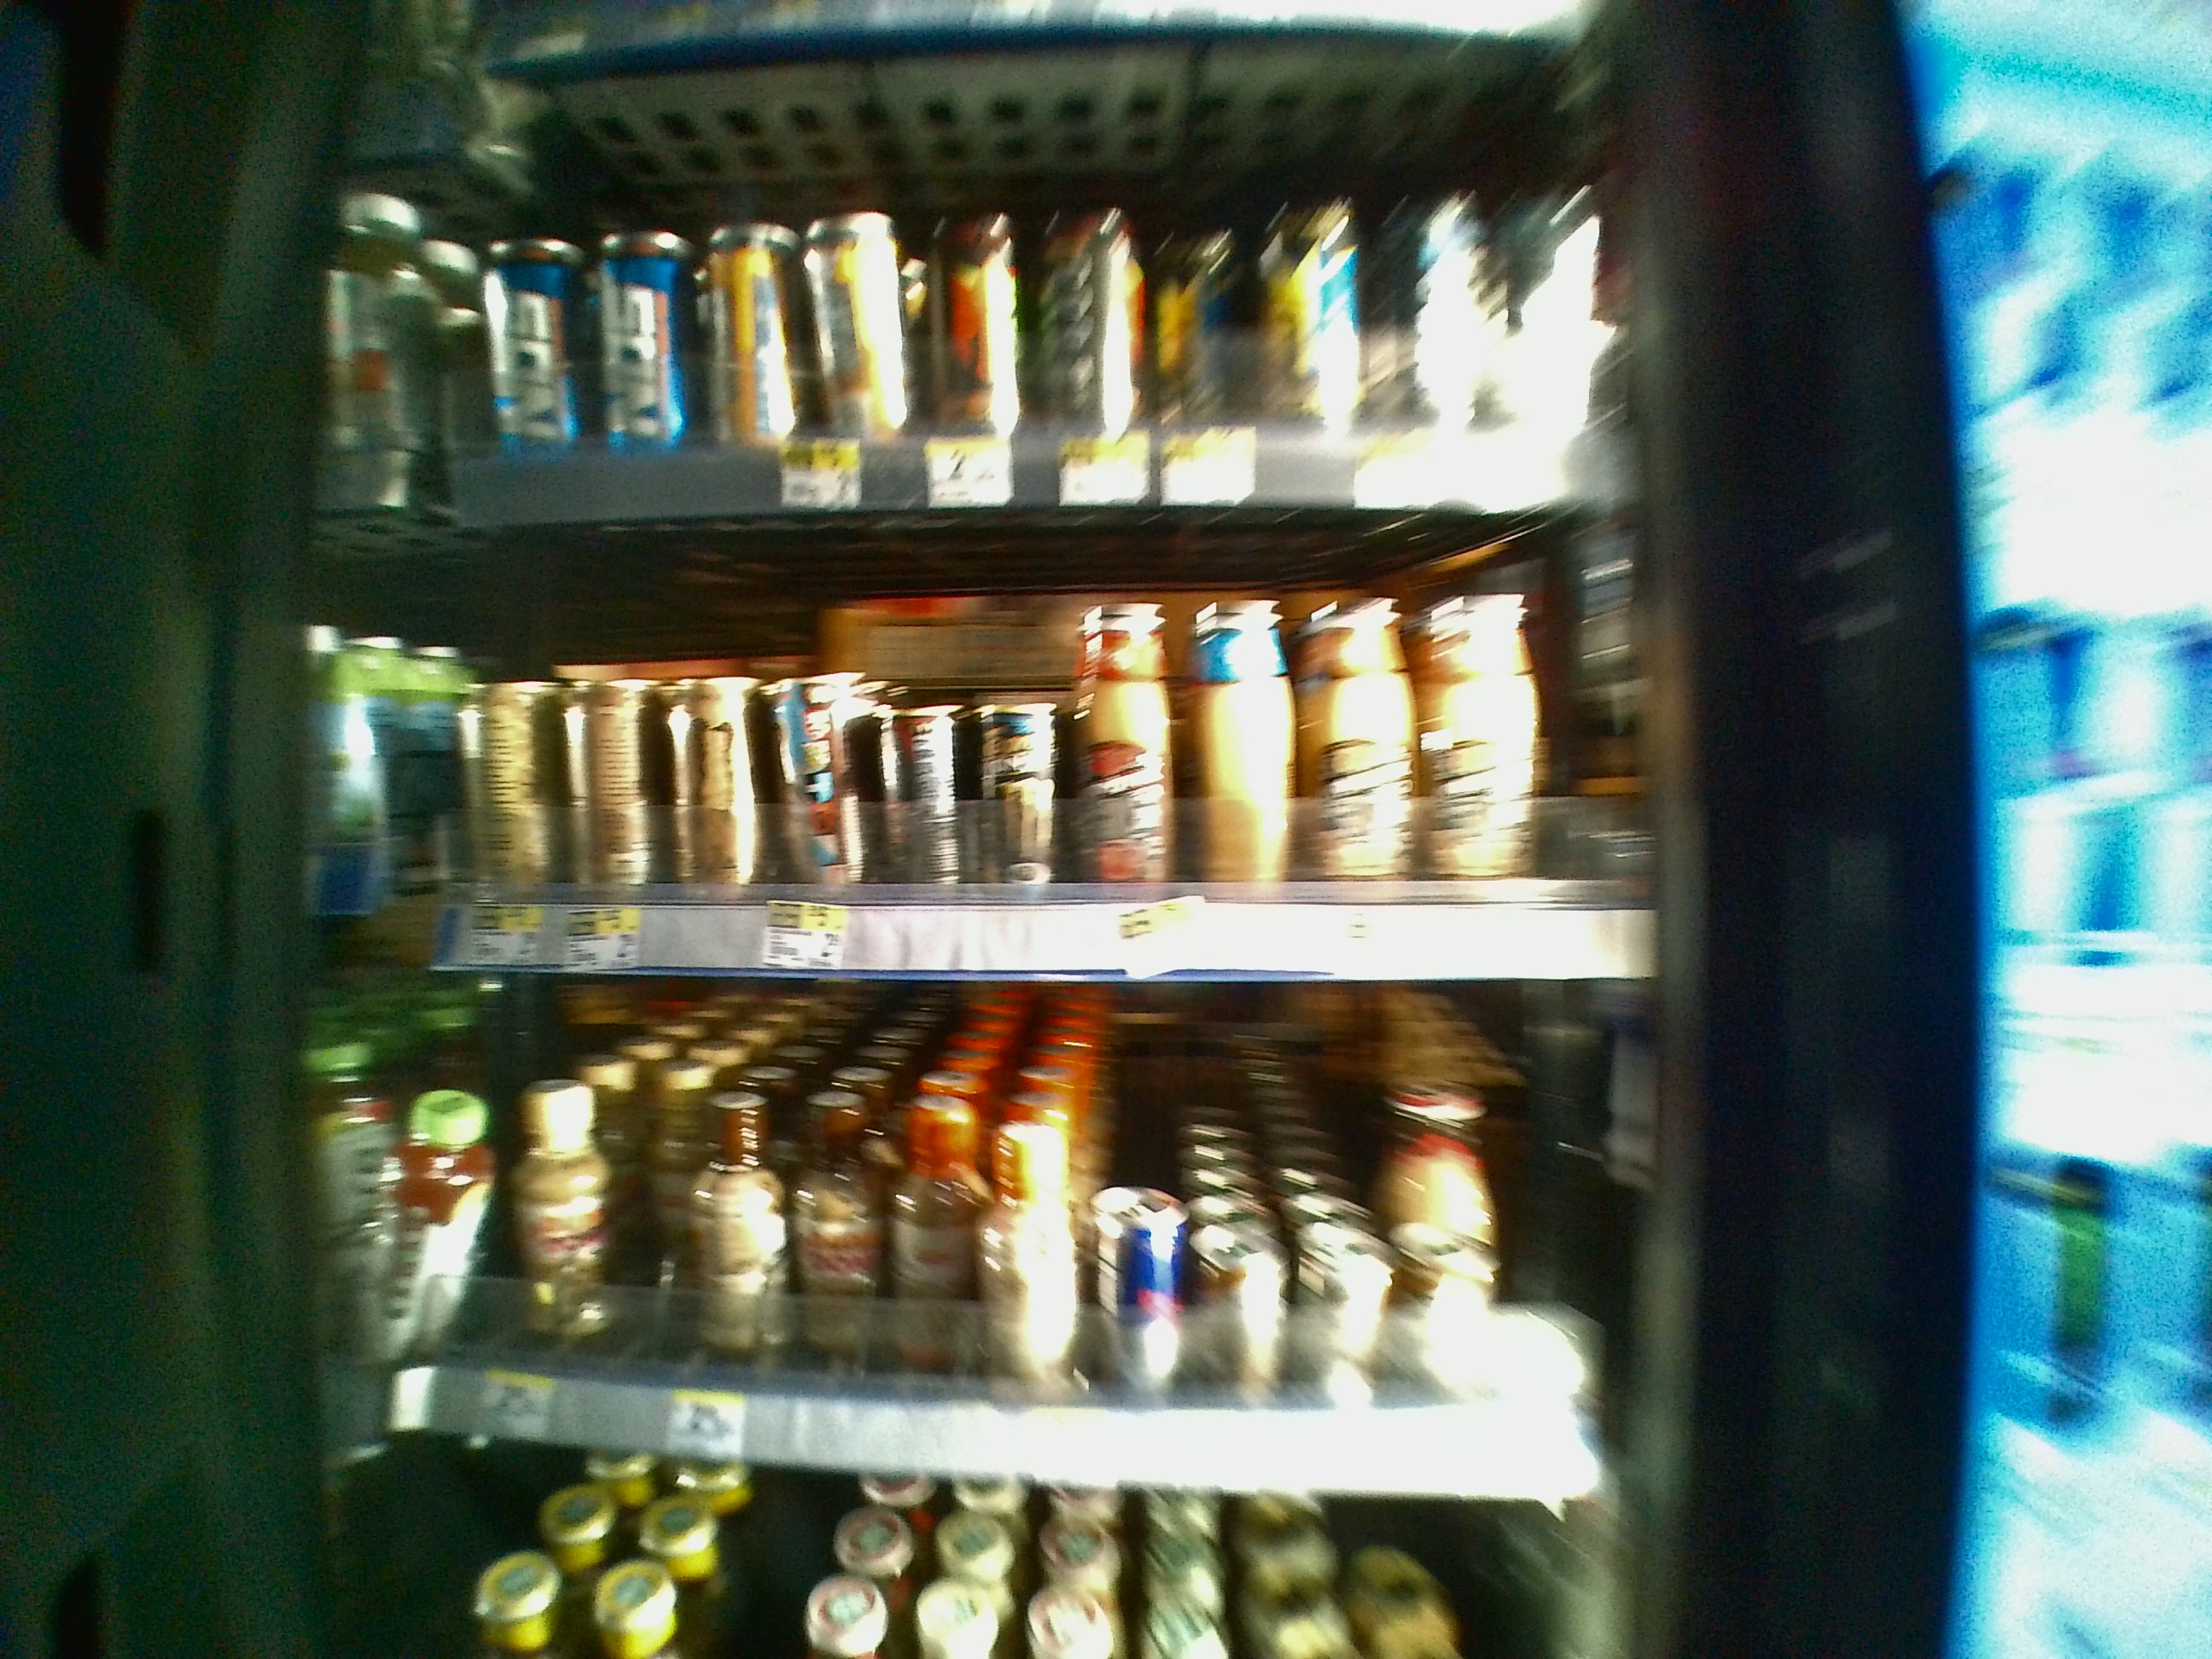shelf: (300, 974, 1691, 1488), (300, 523, 1686, 972)
